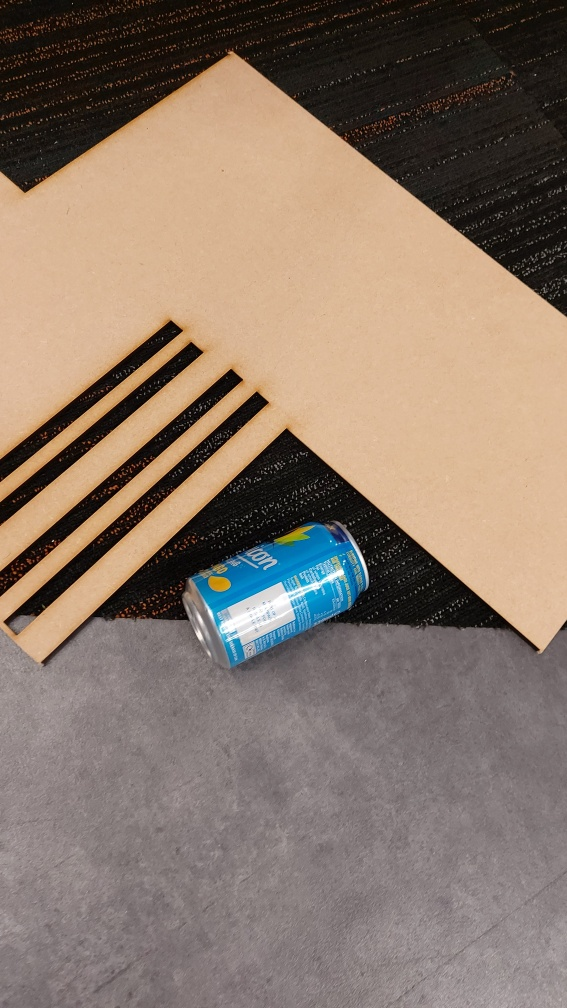can_blue: (168, 491, 390, 687)
